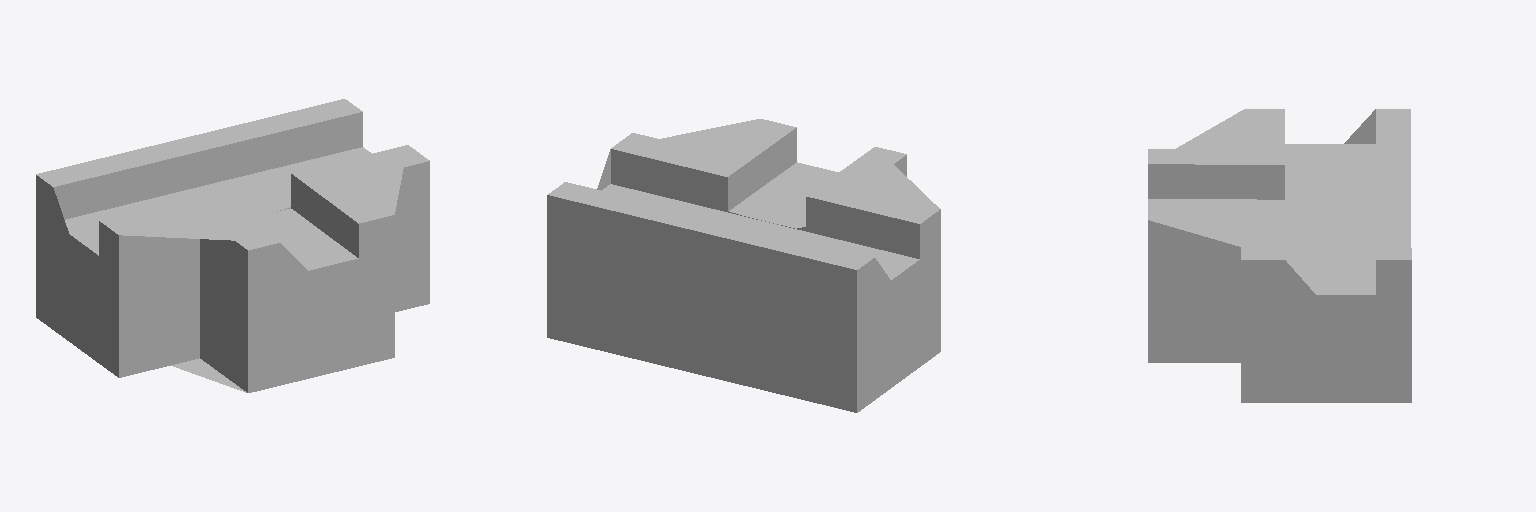
The model's file is pieceT.obj.
The picture shows the model from 3 angles: view 1: azimuth 30°, elevation 25°; view 2: azimuth 150°, elevation 25°; view 3: azimuth 270°, elevation 25°; orthographic projection.
Parts seen in each view (by area): view 1: Cube.003_Cube.002; view 2: Cube.003_Cube.002; view 3: Cube.003_Cube.002.
Boxes of the visible parts, x1=… form: Cube.003_Cube.002: x1=36, y1=99, x2=429, y2=392; Cube.003_Cube.002: x1=547, y1=119, x2=940, y2=412; Cube.003_Cube.002: x1=1148, y1=109, x2=1411, y2=402.
Bounding box in the file's own units: 2 × 0.8821 × 1.47.